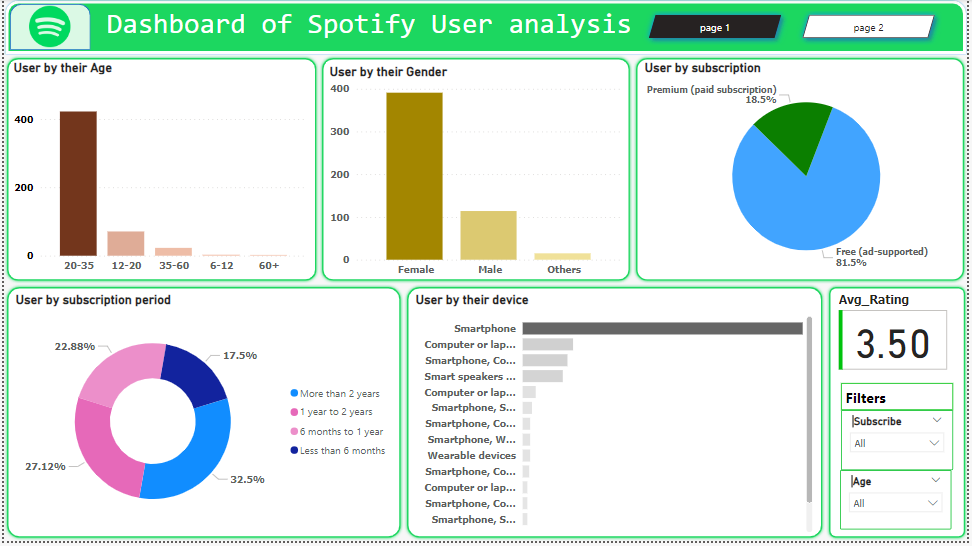

Layout of this report page (visuals, bound fields, positions):
{"tool":"powerbi","page":{"name":"page 1","canvas":[1280,720],"ordinal":0},"visuals":[{"type":"shape","box":[0,0,1280,74.7],"z":0},{"type":"shape","box":[835.7,74.3,444.3,304.3],"z":1000},{"type":"shape","box":[531.4,378.6,560,341.4],"z":2000},{"type":"shape","box":[0,378.6,531.4,341.4],"z":3000},{"type":"textbox","box":[123.2,6.9,723.7,60.9],"z":4000},{"type":"shape","box":[418.6,74.3,417.1,304.3],"z":5000},{"type":"shape","box":[0,74.3,418.6,304.3],"z":6000},{"type":"columnChart","title":"User by their Age","fields":{"Y":["CountNonNull(Spotify User Behavior Dataset - Sheet1.Age)"],"Category":["Spotify User Behavior Dataset - Sheet1.Age"]},"box":[7.5,81.2,400,290],"z":7000},{"type":"columnChart","title":"User by their Gender","fields":{"Y":["CountNonNull(Spotify User Behavior Dataset - Sheet1.Gender)"],"Category":["Spotify User Behavior Dataset - Sheet1.Gender"]},"box":[427.1,85.7,400,290],"z":8000},{"type":"pieChart","title":"User by subscription","fields":{"Category":["Spotify User Behavior Dataset - Sheet1.spotify_subscription_plan"],"Y":["CountNonNull(Spotify User Behavior Dataset - Sheet1.spotify_subscription_plan)"]},"box":[846.2,81.2,433.8,290],"z":9000},{"type":"donutChart","title":"User by subscription period","fields":{"Category":["Spotify User Behavior Dataset - Sheet1.spotify_usage_period"],"Y":["CountNonNull(Spotify User Behavior Dataset - Sheet1.spotify_usage_period)"]},"box":[10,388.6,510,324],"z":10000},{"type":"barChart","title":"User by their device","fields":{"Category":["Spotify User Behavior Dataset - Sheet1.spotify_listening_device"],"Y":["CountNonNull(Spotify User Behavior Dataset - Sheet1.spotify_listening_device)"]},"box":[541.4,388.6,537,324],"z":11000},{"type":"shape","box":[1091.4,378.6,188.6,341.4],"z":12000},{"type":"slicer","fields":{"Values":["Spotify User Behavior Dataset - Sheet1.premium_sub_willingness"]},"box":[1111.4,545.7,148.6,80],"z":13000},{"type":"slicer","fields":{"Values":["Spotify User Behavior Dataset - Sheet1.Age"]},"box":[1111.2,625.5,148.1,78.9],"z":14000},{"type":"cardVisual","title":"Avg_Rating","fields":{"Data":["Avg(Spotify User Behavior Dataset - Sheet1.music_recc_rating)"]},"box":[1104.3,388.6,154.3,108.6],"z":16000},{"type":"textbox","box":[1111.4,510,148.6,35.7],"z":17000},{"type":"pageNavigator","box":[846.9,12.5,399.9,49.8],"z":17001},{"type":"shape","box":[8.3,6.9,106.6,60.9],"z":17002},{"type":"image","box":[13.8,4.2,95.5,65],"z":17003}]}

Visuals, with their boxes in screenshot pixels (x1, y1, x2, y2), scaled from the page's 1280x720 canvas onto the 972x546 screenshot:
shape: <box>0,0,971,57</box>
shape: <box>635,56,971,287</box>
shape: <box>404,287,829,545</box>
shape: <box>0,287,404,545</box>
textbox: <box>94,5,643,51</box>
shape: <box>318,56,635,287</box>
shape: <box>0,56,318,287</box>
"User by their Age" columnChart: <box>6,62,309,281</box>
"User by their Gender" columnChart: <box>324,65,628,285</box>
"User by subscription" pieChart: <box>643,62,971,281</box>
"User by subscription period" donutChart: <box>8,295,395,540</box>
"User by their device" barChart: <box>411,295,819,540</box>
shape: <box>829,287,971,545</box>
slicer - Spotify User Behavior Dataset - Sheet1.premium_sub_willingness: <box>844,414,957,474</box>
slicer - Spotify User Behavior Dataset - Sheet1.Age: <box>844,474,956,534</box>
"Avg_Rating" cardVisual: <box>839,295,956,377</box>
textbox: <box>844,387,957,414</box>
pageNavigator: <box>643,9,947,47</box>
shape: <box>6,5,87,51</box>
image: <box>10,3,83,52</box>
